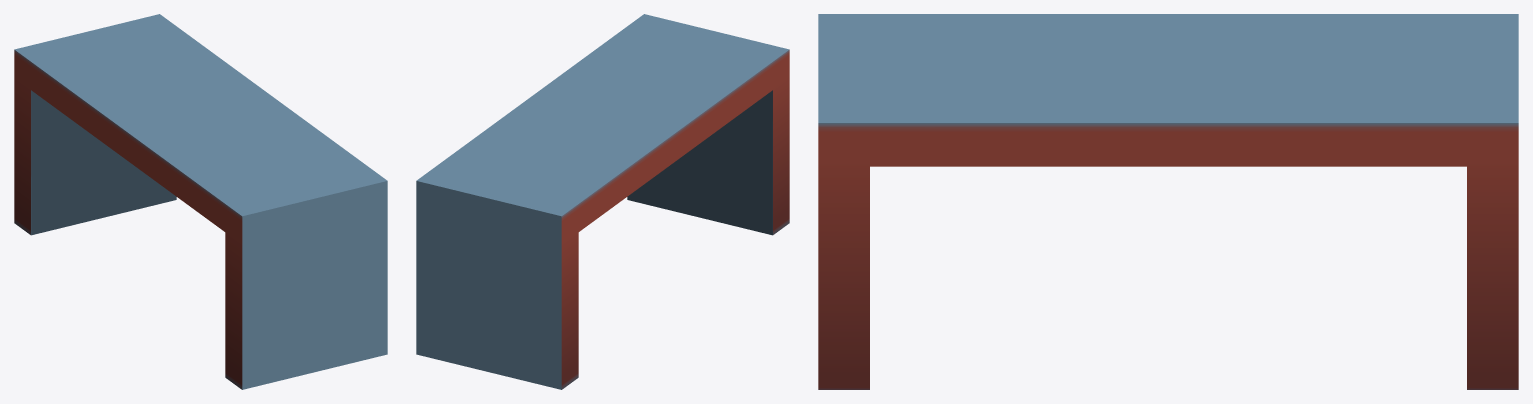
Rendered from bench.fbx.
The picture shows the model from 3 angles, left to right: view 1: azimuth 30°, elevation 25°; view 2: azimuth 150°, elevation 25°; view 3: azimuth 270°, elevation 25°; orthographic projection. The views are drawn at different scales.
Visible parts, largest first — view 1: Cube; view 2: Cube; view 3: Cube.
Part boxes in pixels (x1,y1,x2,y2): Cube: (14,14,387,389); Cube: (416,14,789,389); Cube: (818,14,1518,389).
Size of the model in its own units: 200 by 228 by 543.
1 material, 1 textured.
